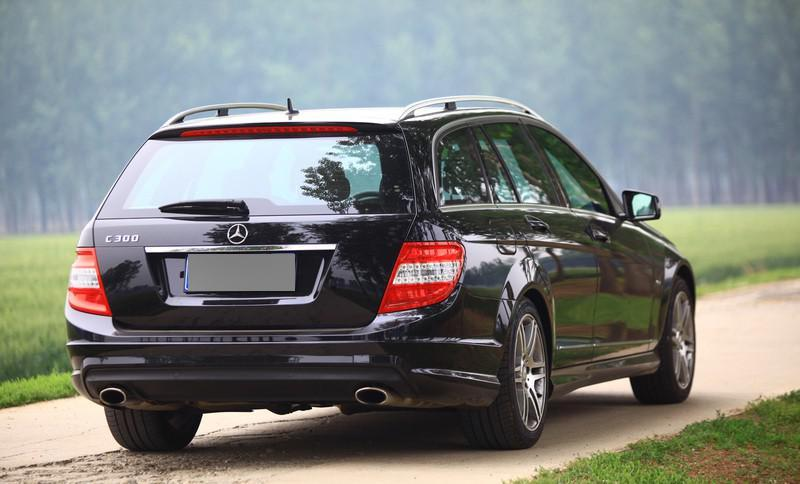Wagon: (63, 93, 697, 453)
